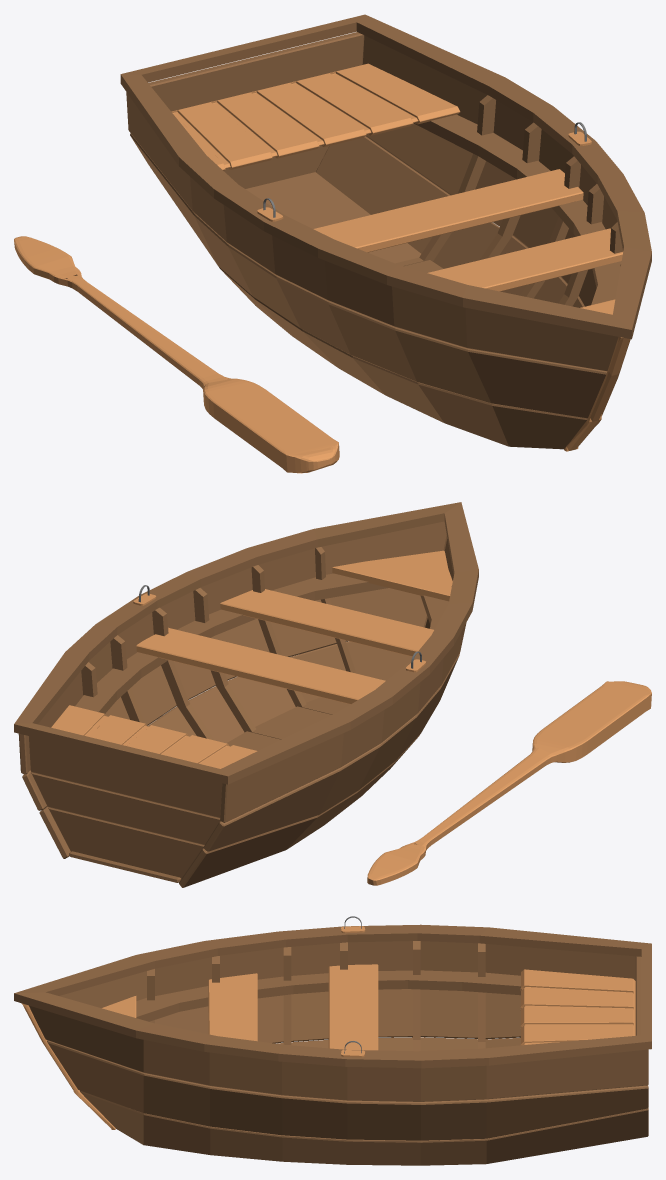
File: Boat.fbx
The picture shows the model from 3 angles, top to bottom: view 1: azimuth 30°, elevation 25°; view 2: azimuth 150°, elevation 25°; view 3: azimuth 270°, elevation 25°; orthographic projection. The views are drawn at different scales.
Parts seen in each view (by area): view 1: Body, Oar; view 2: Body, Oar; view 3: Body.
Part boxes in pixels (x1,y1,x2,y2): Body: (120,14,651,451); Oar: (14,236,339,473); Body: (14,502,478,887); Oar: (367,681,651,885); Body: (14,916,651,1165).
Size of the model in its own units: 461 by 179 by 688.
